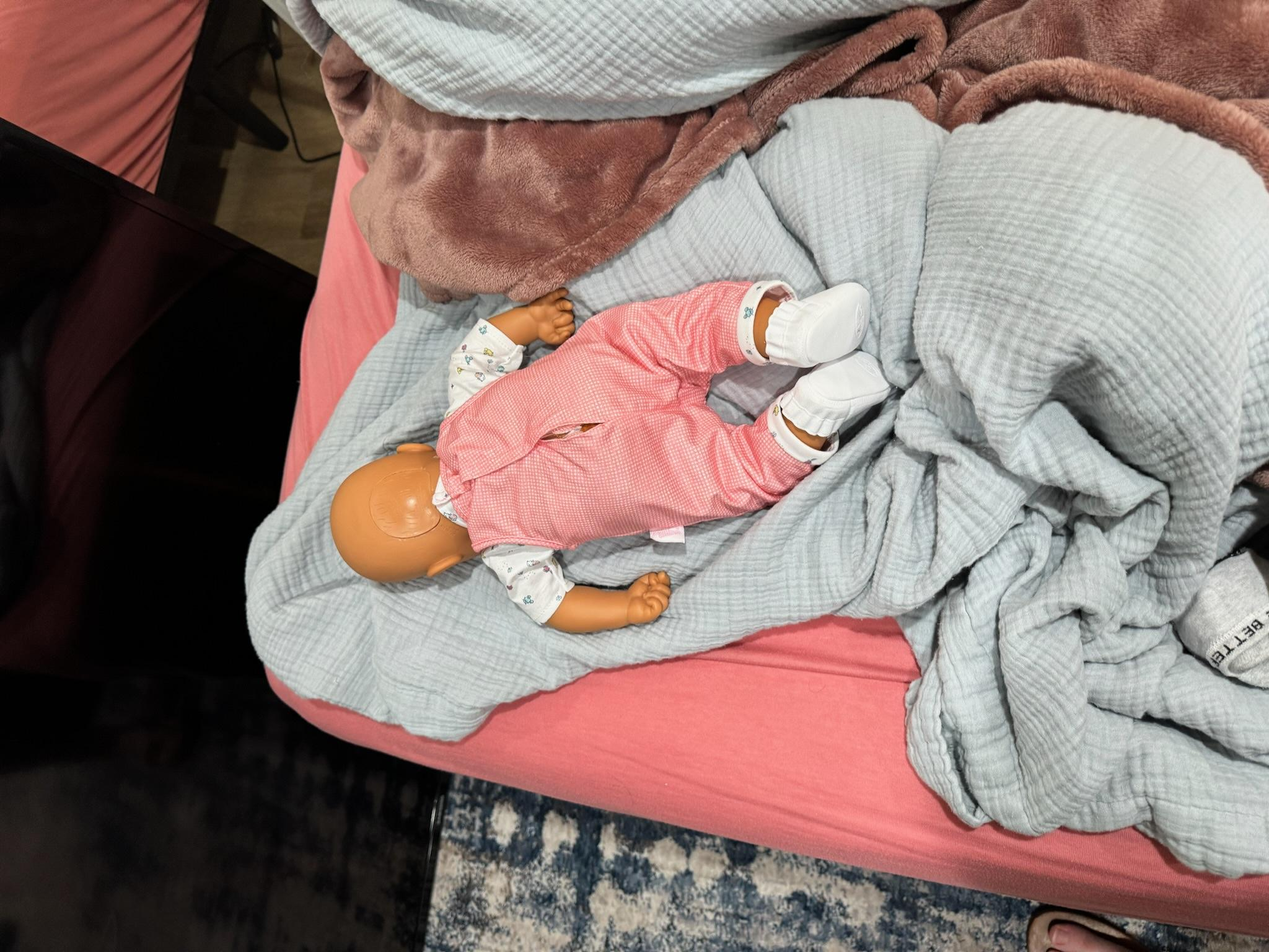baby: (318, 288, 894, 631)
